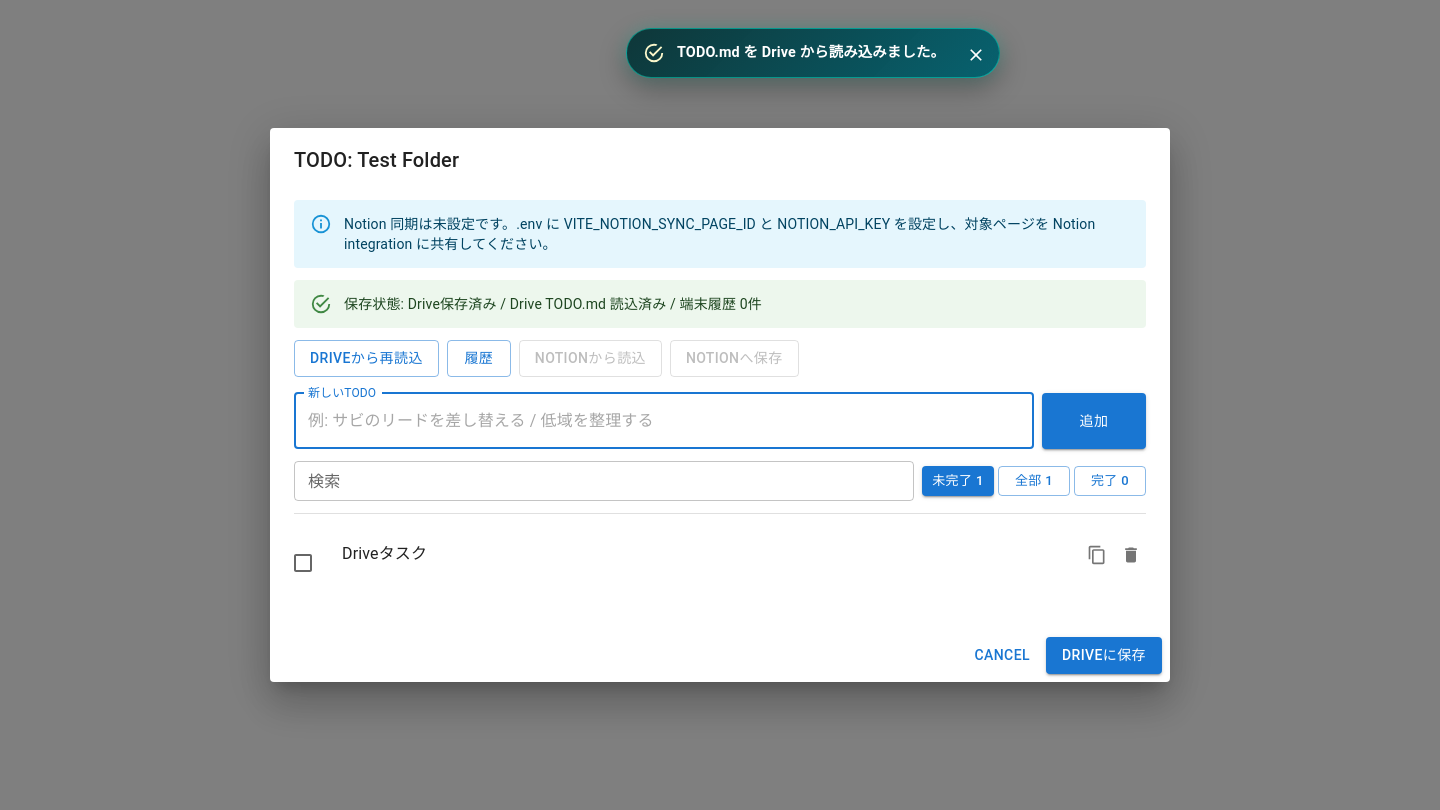
Test case: MemoModal › Drive 読込済み TODO を編集すると未保存変更を表示する
The width and height of the screenshot is (1440, 810).
Expected: the text "Driveタスク" is shown, x1=342 y1=544 x2=427 y2=562
Expected: the text "保存状態: Drive保存済み / Drive TODO.md 読込済み / 端末履歴 0件" is shown, x1=344 y1=296 x2=762 y2=312
Type "未保存タスク" into the field labelled "新しいTODO".
click(664, 421); type("未保存タスク")  # box x1=294 y1=393 x2=1034 y2=449
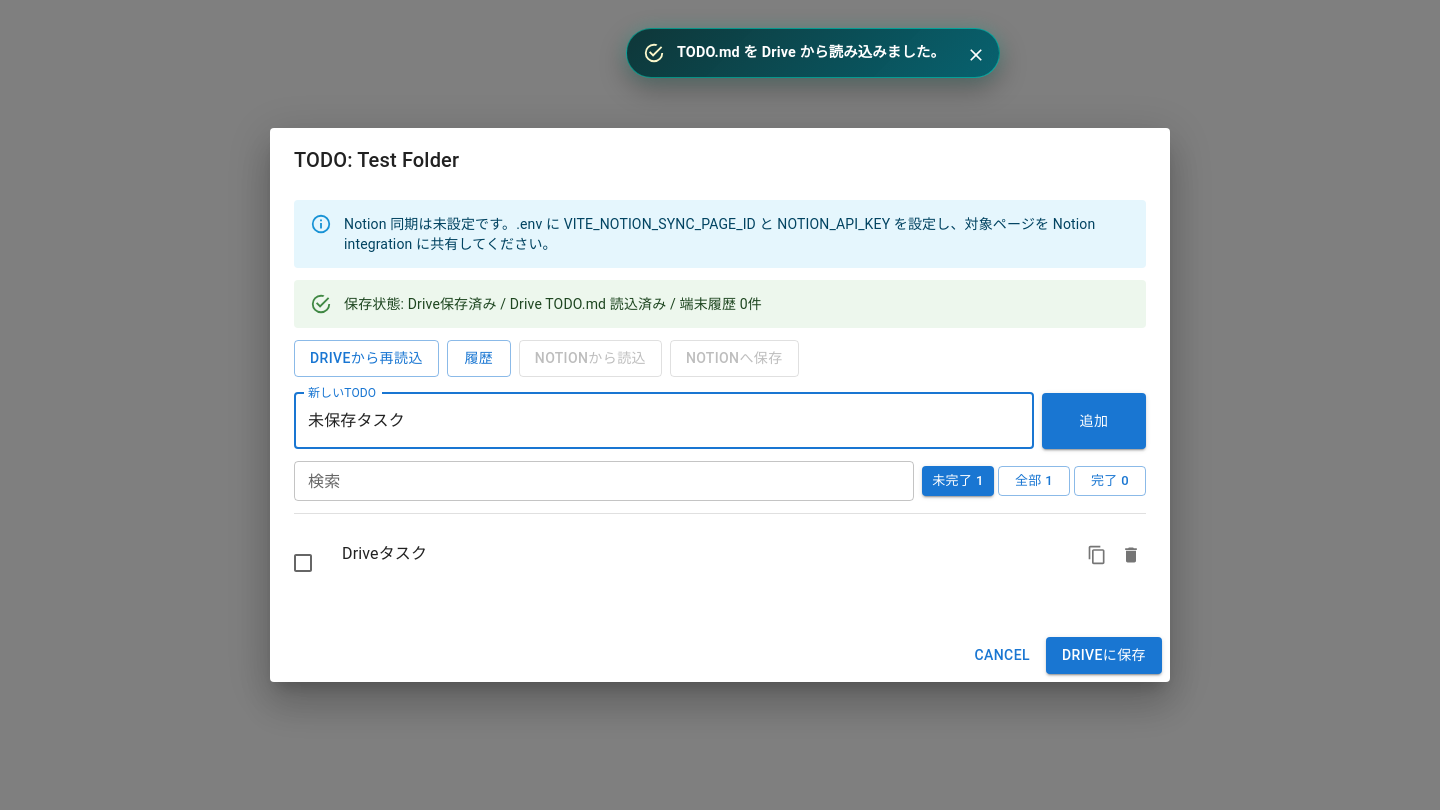
Click the button "追加".
click(1094, 421)  # box x1=1042 y1=393 x2=1146 y2=449
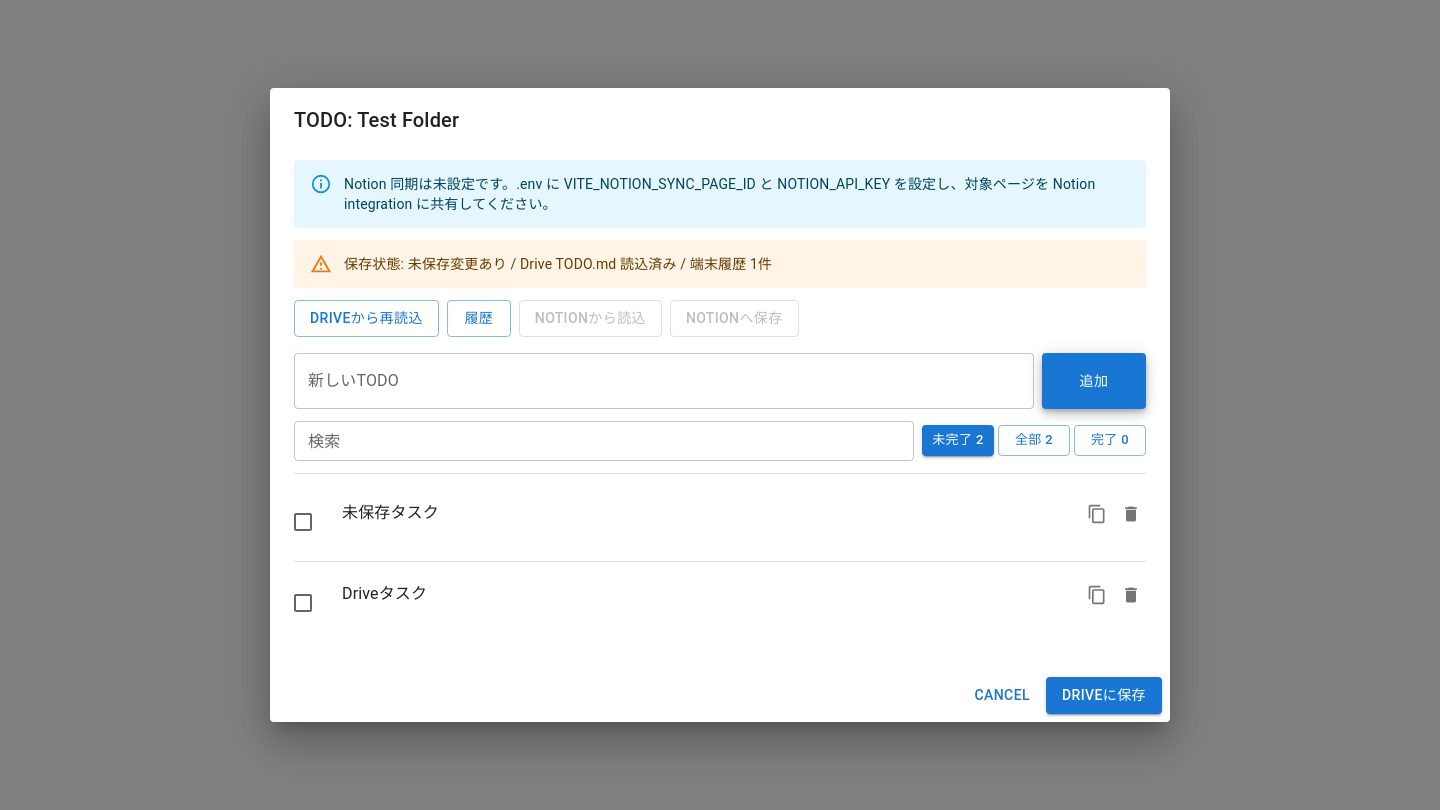
Result: the text "保存状態: 未保存変更あり / Drive TODO.md 読込済み / 端末履歴 1件" is shown at x1=344 y1=256 x2=772 y2=272
